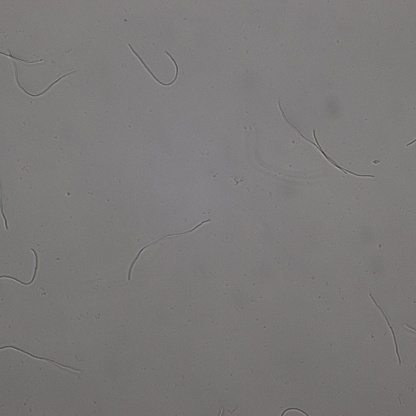Sensitive: (279, 102, 373, 178), (128, 219, 211, 279), (2, 48, 76, 96), (370, 294, 403, 366), (1, 344, 81, 372), (129, 45, 179, 87), (1, 248, 38, 286), (280, 407, 308, 416)
